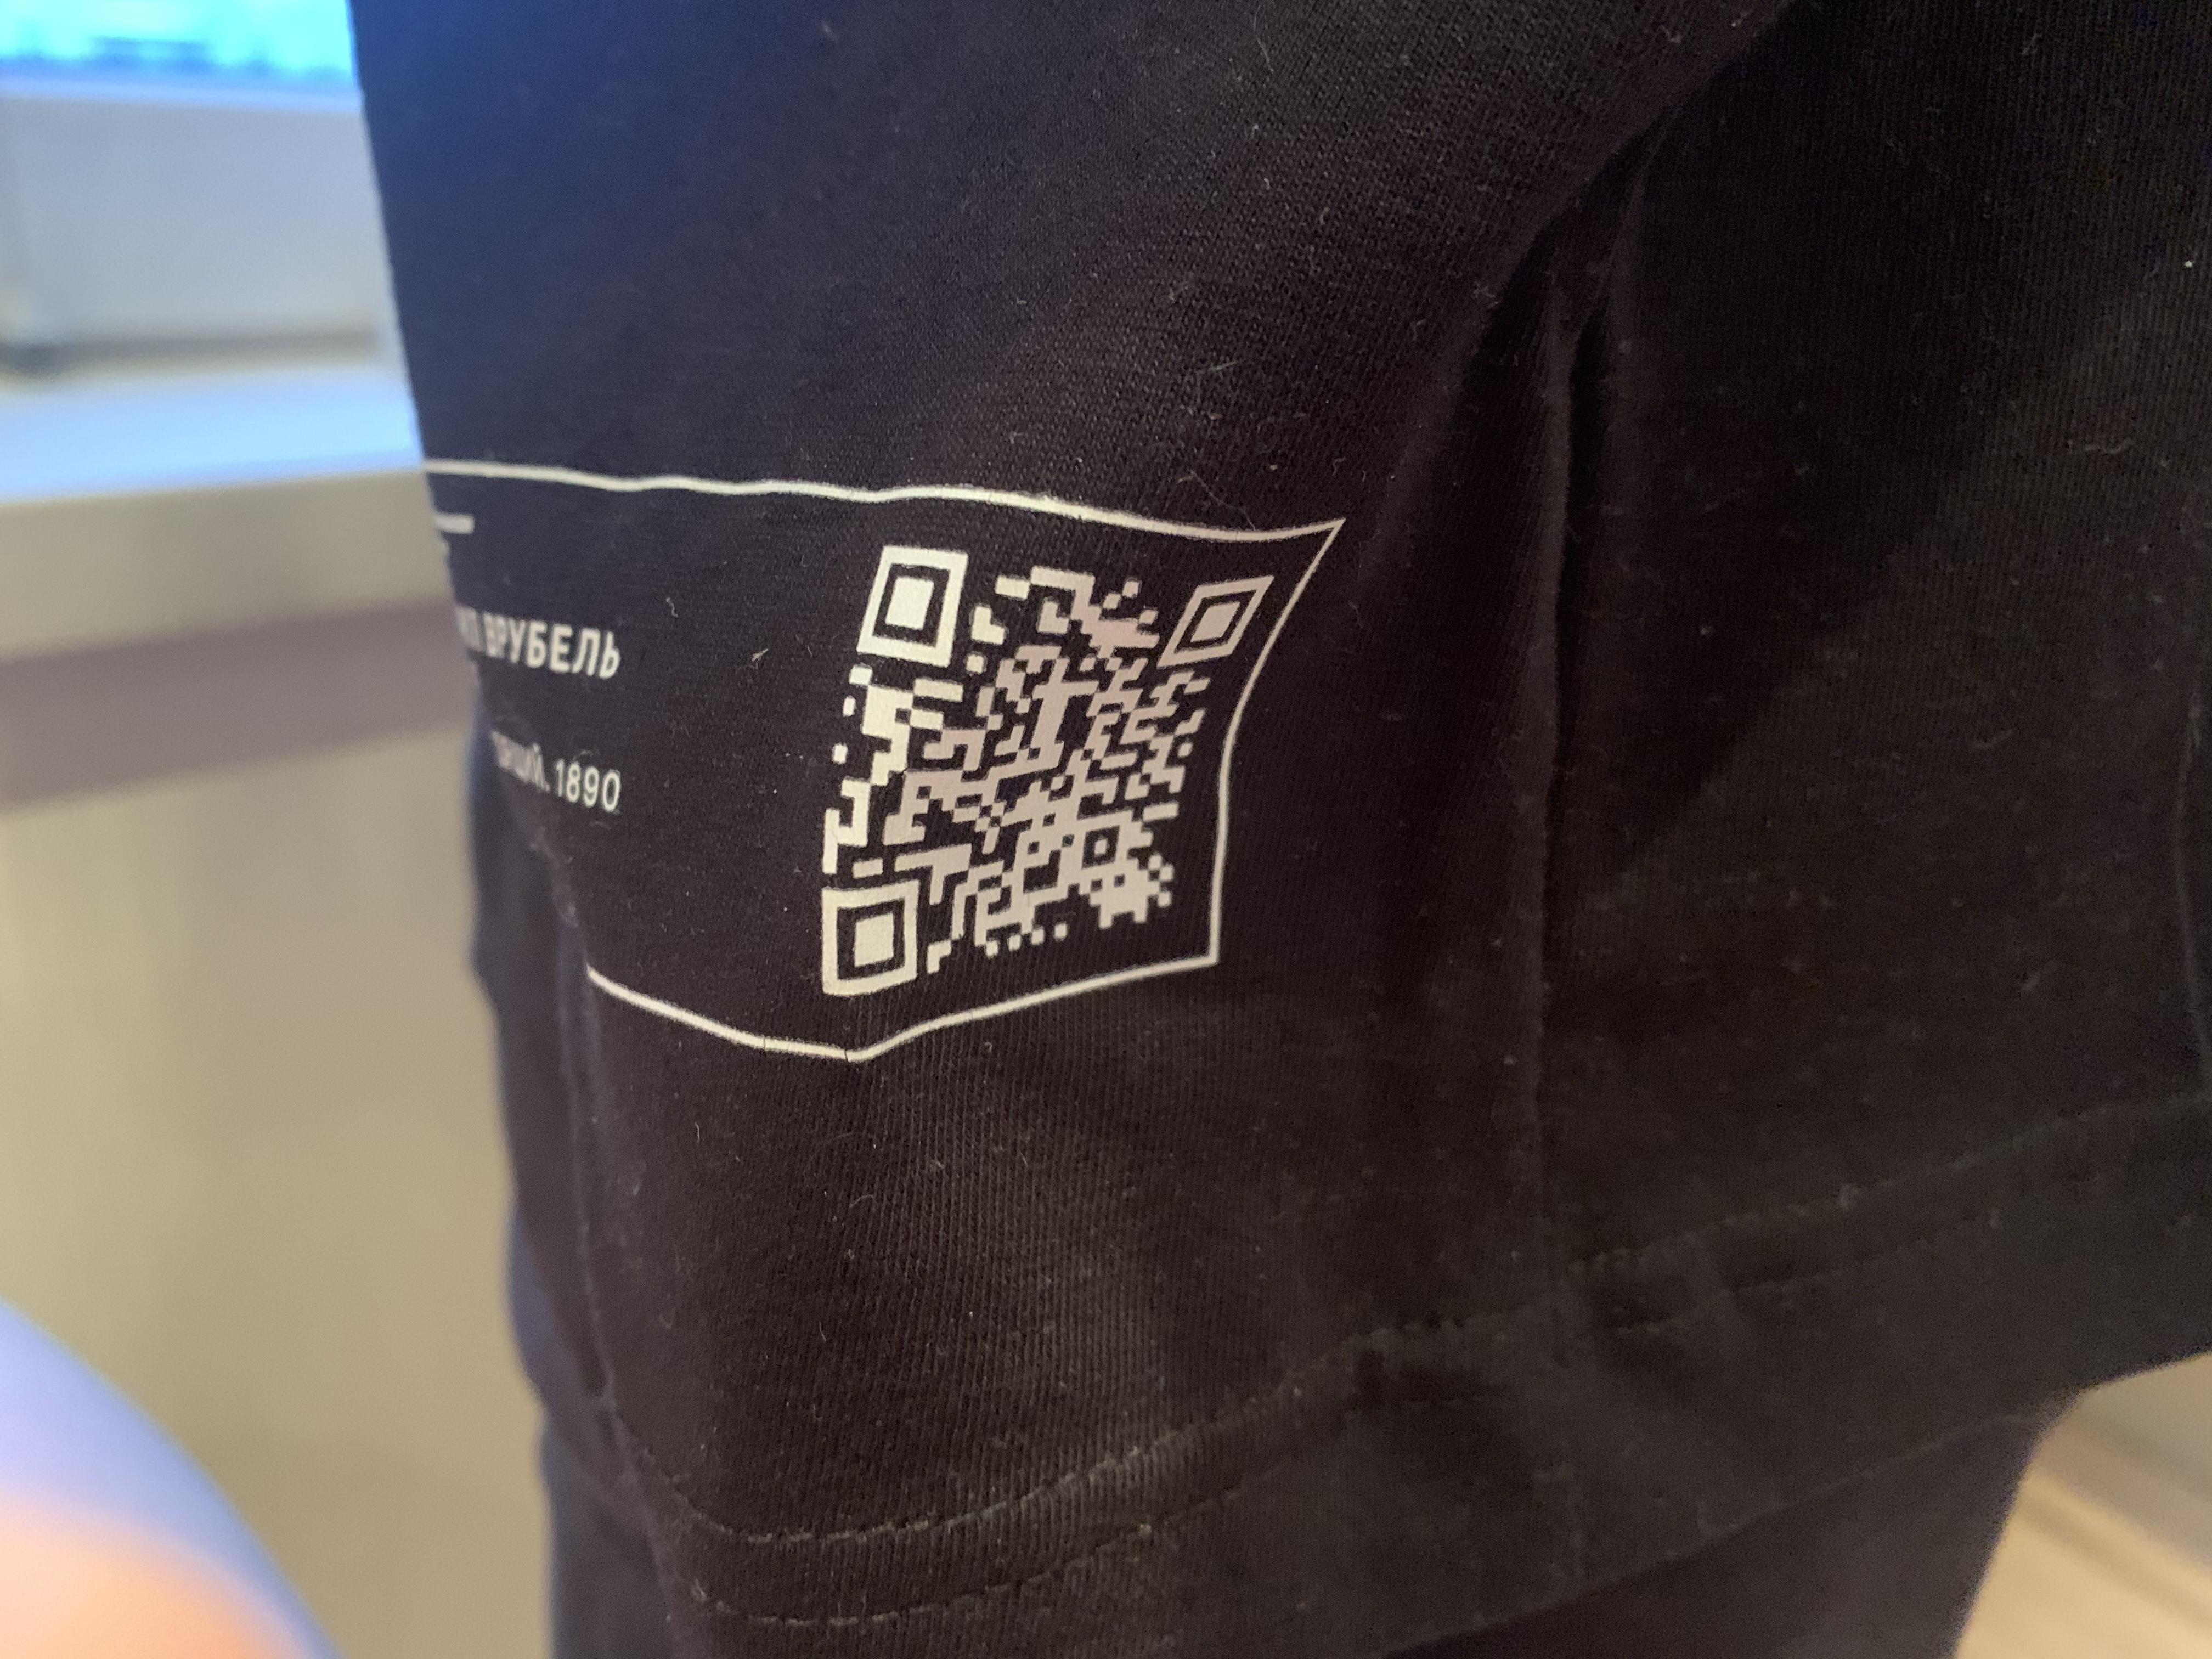qrcode: (819, 535, 1278, 999)
